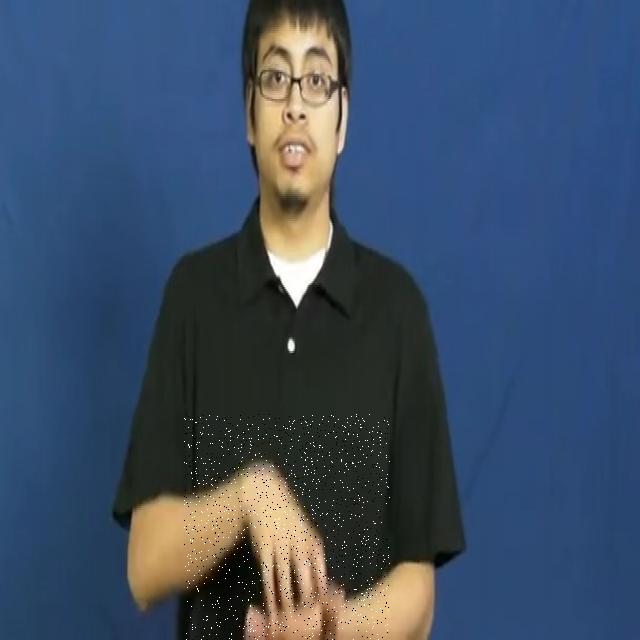cake: (184, 414, 390, 640)
